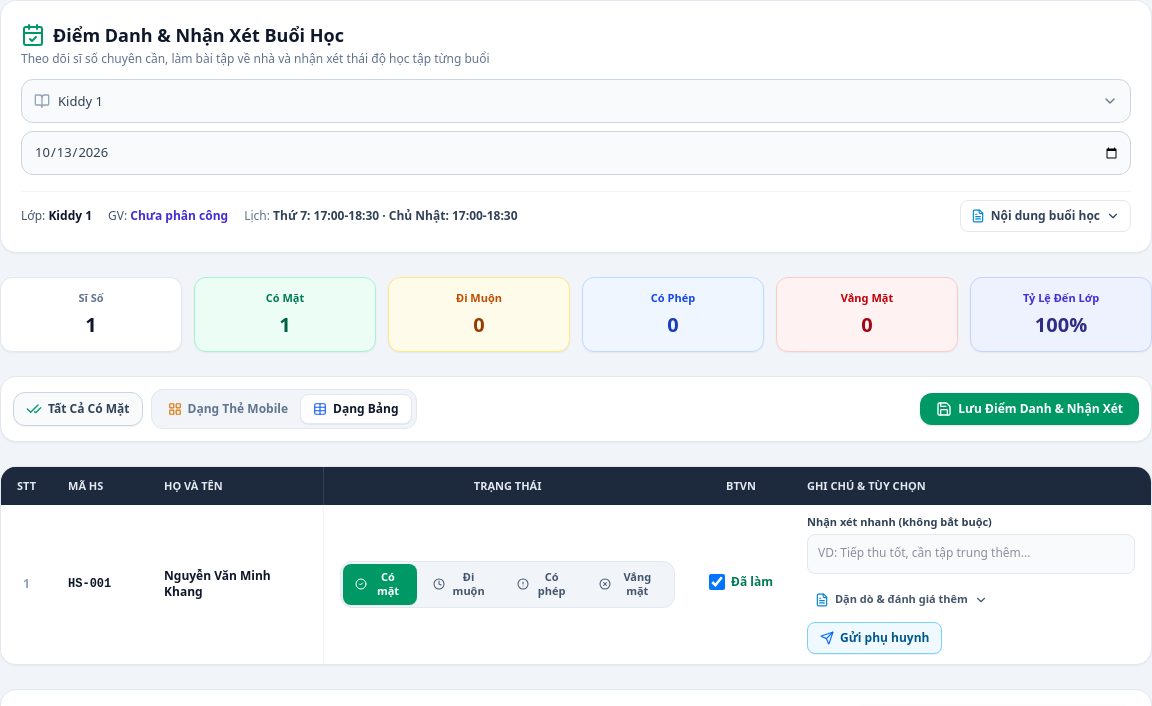
prevents attendance being saved for a cancelled lesson
Click the button "Lưu Điểm Danh & Nhận Xét" at [1030, 408], box [920,392,1139,424]
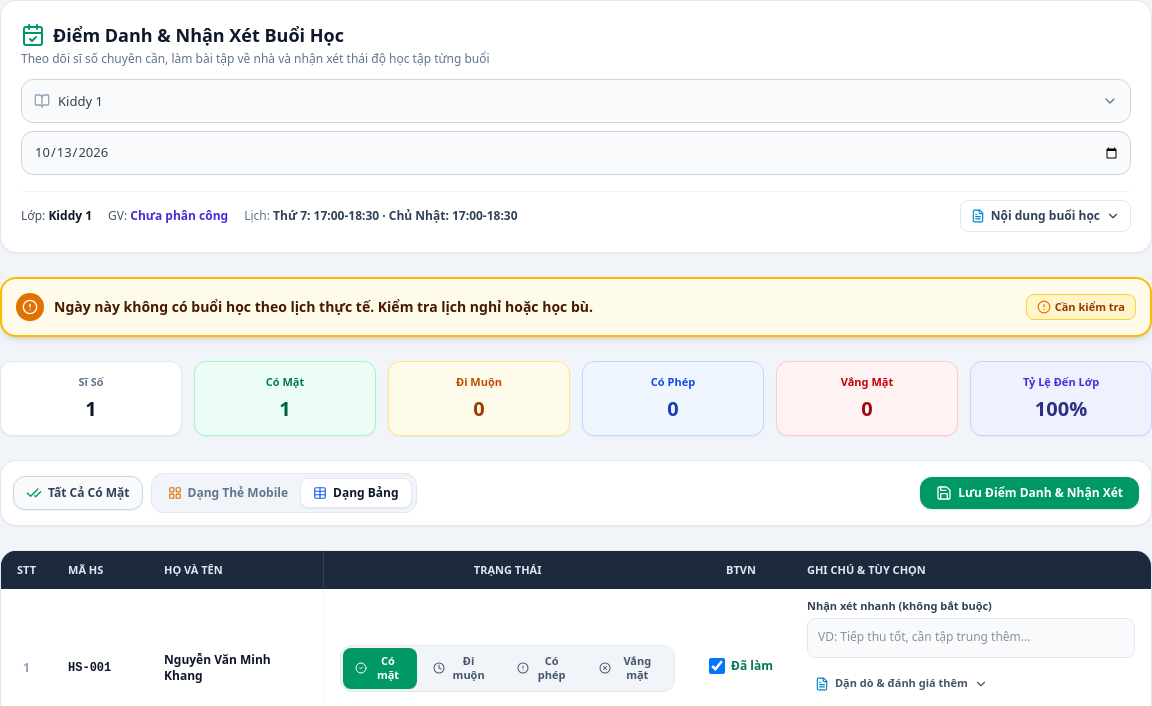
Check: the text "Ngày này không có buổi học" is shown, box [54,297,593,316]
